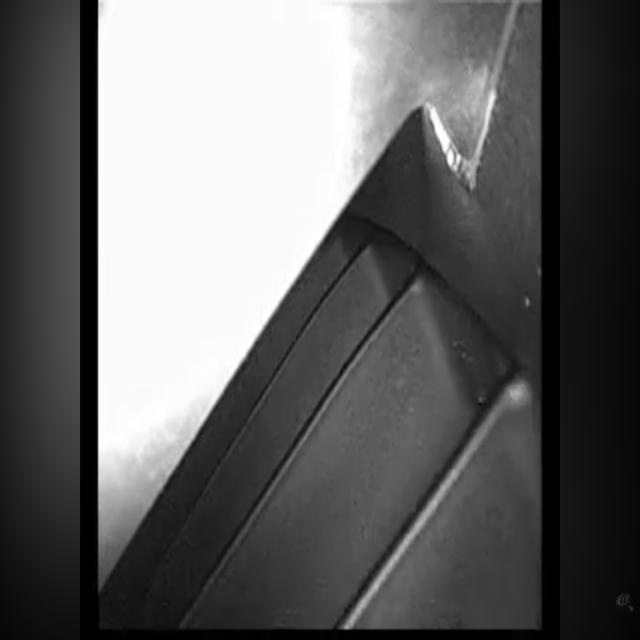turbine_blade: (178, 276, 481, 632), (354, 375, 536, 626)
